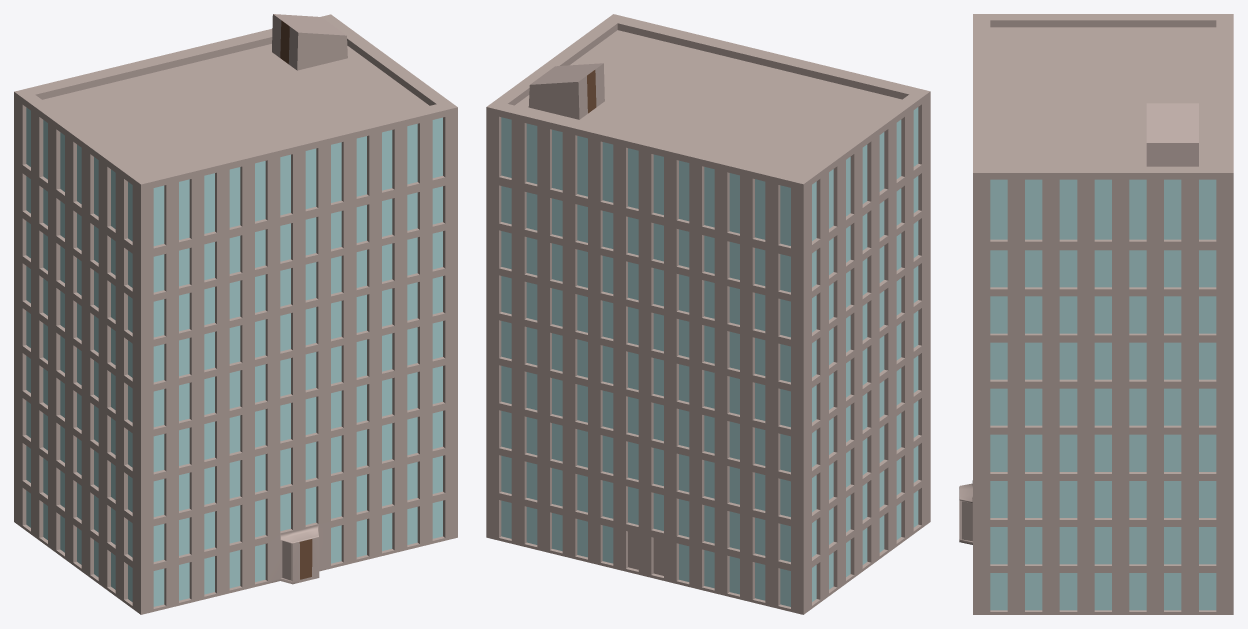
Rendered from BuildingJ.fbx.
The picture shows the model from 3 angles, left to right: view 1: azimuth 30°, elevation 25°; view 2: azimuth 150°, elevation 25°; view 3: azimuth 270°, elevation 25°; orthographic projection. The views are drawn at different scales.
Visible parts, largest first — view 1: BuildingMESH; view 2: BuildingMESH; view 3: BuildingMESH.
Boxes of the visible parts, x1=… form: BuildingMESH: x1=14, y1=14, x2=457, y2=614; BuildingMESH: x1=486, y1=14, x2=930, y2=614; BuildingMESH: x1=959, y1=14, x2=1233, y2=614.
Bounding box in the file's own units: 31.72 × 44.14 × 23.15.
